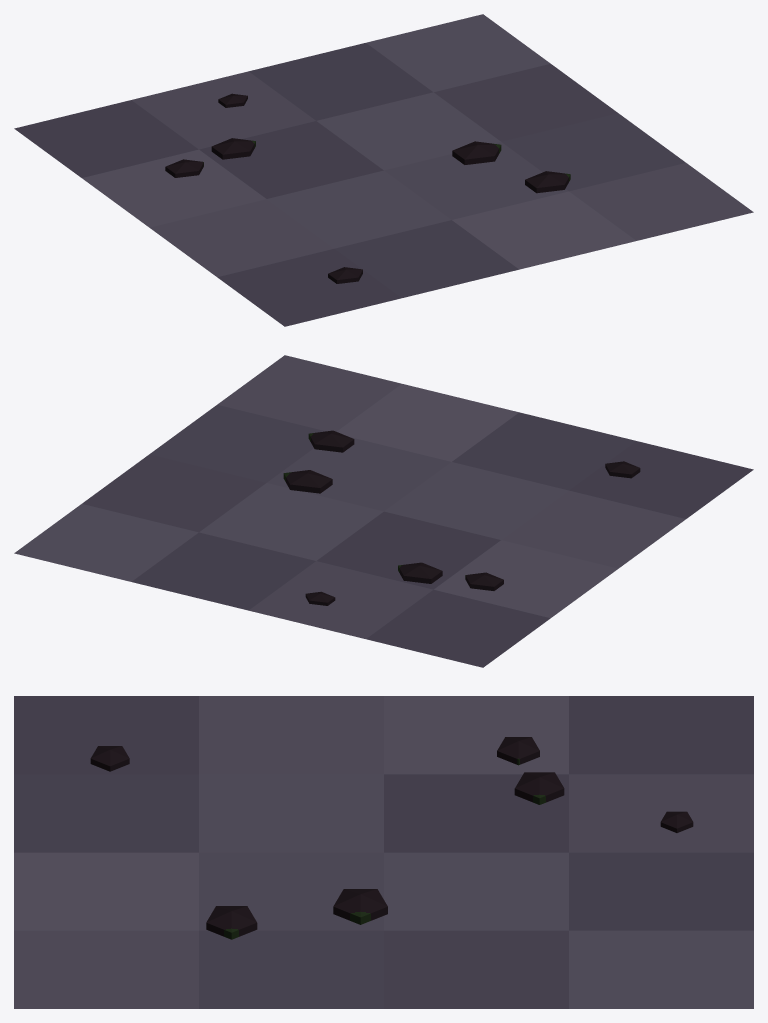
The model's file is basalt_floor.glb.
The picture shows the model from 3 angles, top to bottom: view 1: azimuth 30°, elevation 25°; view 2: azimuth 150°, elevation 25°; view 3: azimuth 270°, elevation 25°; orthographic projection. The views are drawn at different scales.
Parts seen in each view (by area): view 1: basalt_floor; view 2: basalt_floor; view 3: basalt_floor.
Boxes of the visible parts, x1=… form: basalt_floor: x1=14, y1=14, x2=753, y2=326; basalt_floor: x1=14, y1=355, x2=753, y2=667; basalt_floor: x1=14, y1=696, x2=753, y2=1008.
Size of the model in its own units: 2 by 0.0898 by 2.
2 materials, 1 textured.
